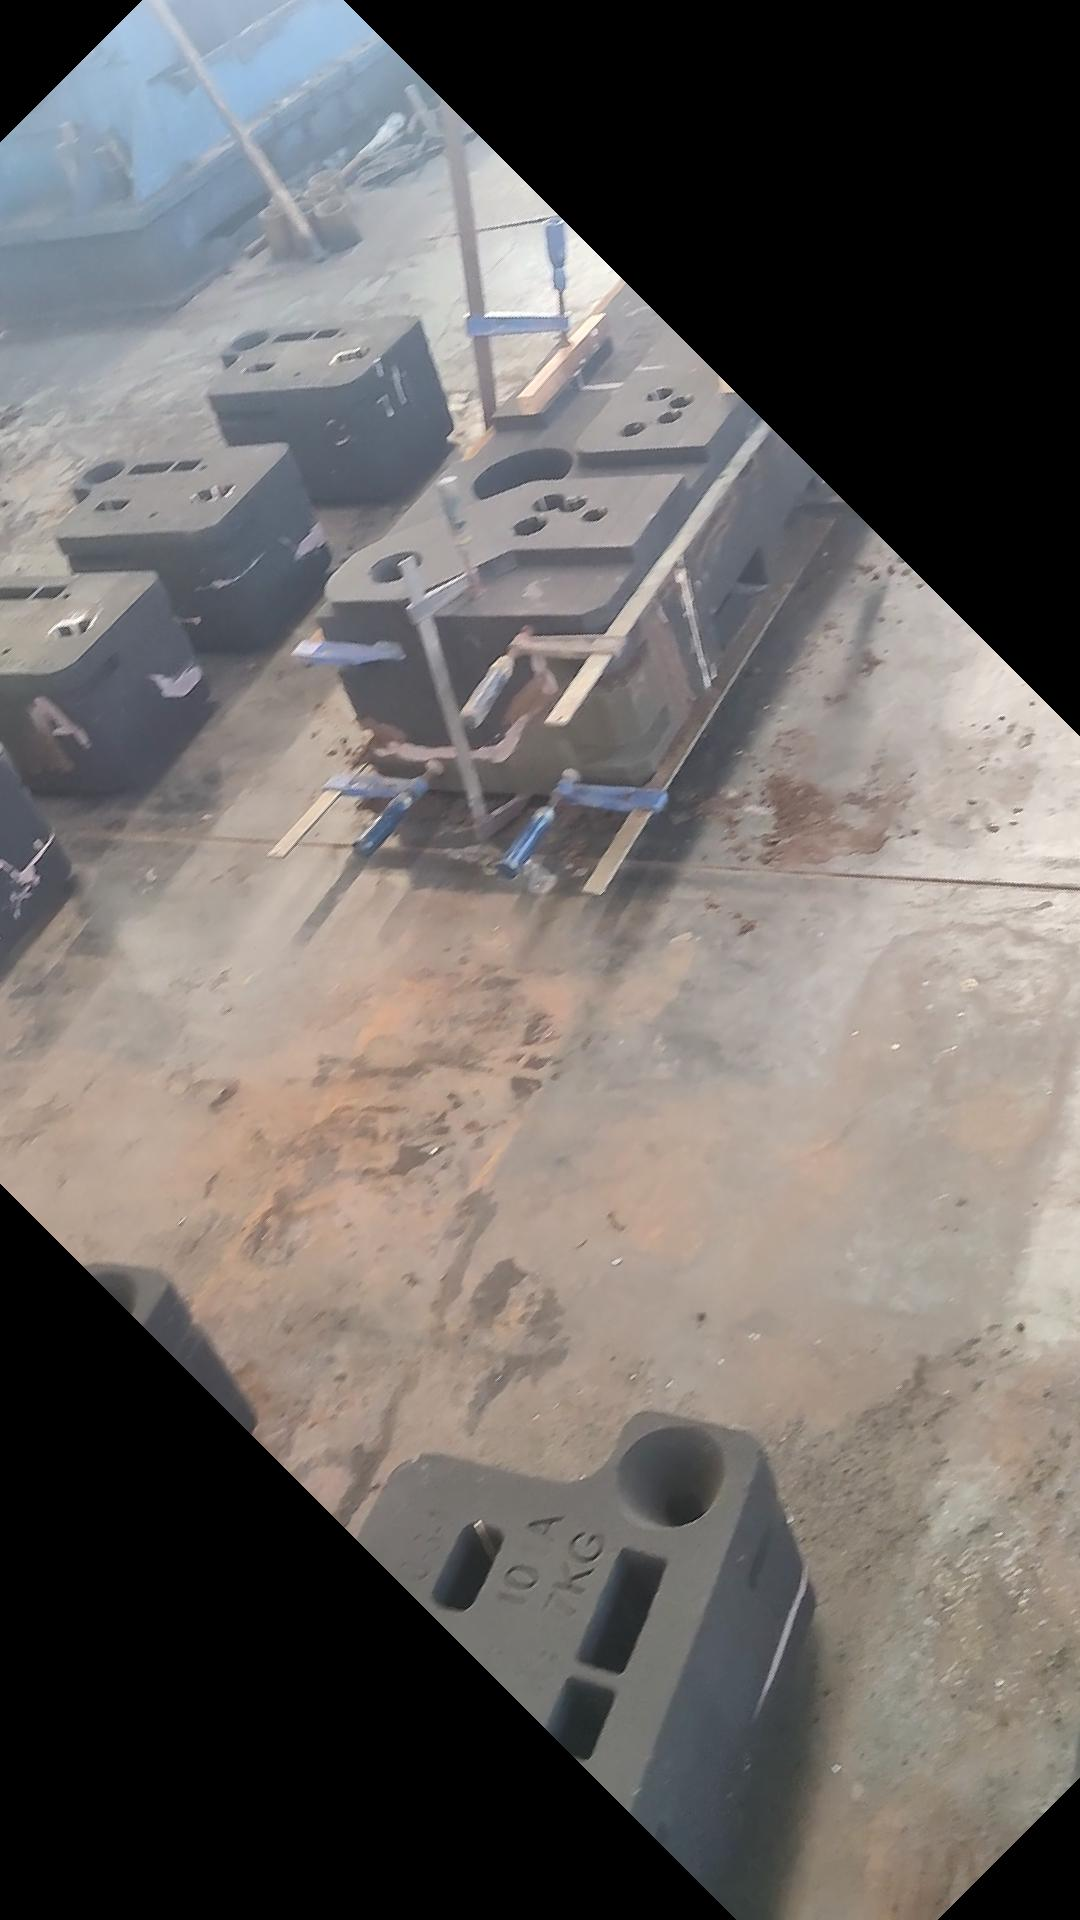pouring hole: (615, 1425, 727, 1528), (73, 1271, 137, 1323), (368, 550, 422, 583), (82, 460, 124, 483), (228, 330, 268, 349), (307, 167, 339, 182), (302, 183, 335, 196), (316, 199, 345, 214), (287, 200, 315, 214), (258, 206, 287, 218), (272, 189, 298, 200)
